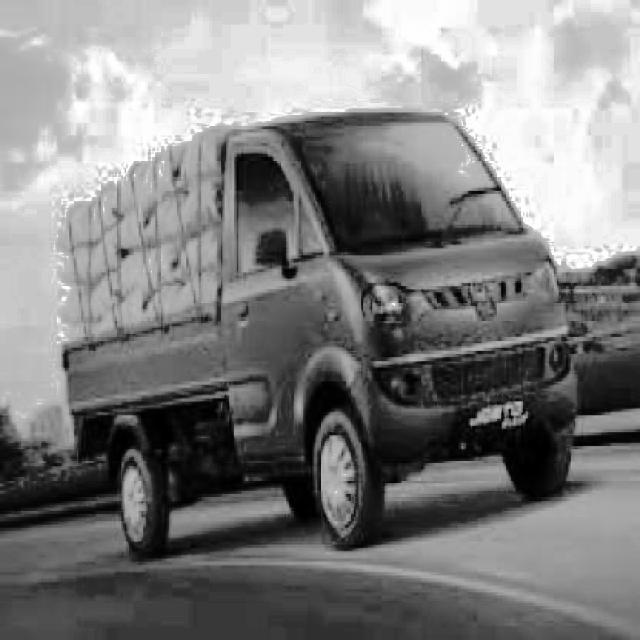LCV: (62, 152, 570, 541)
